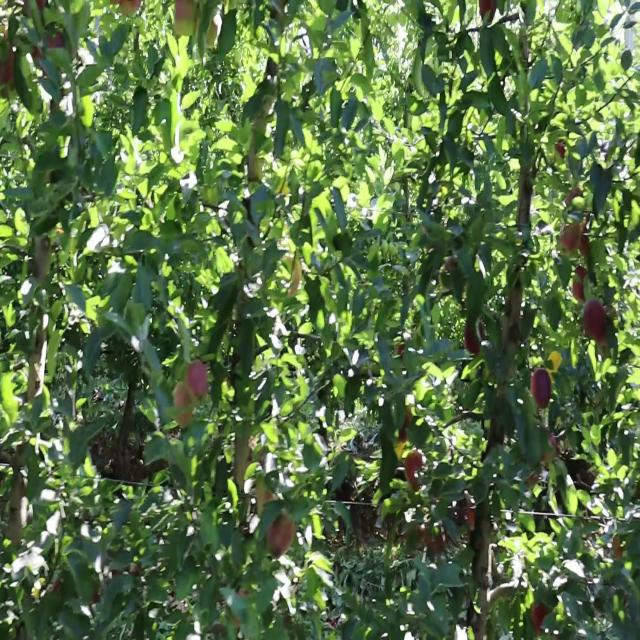apple: (267, 515, 296, 559), (582, 298, 608, 341), (172, 379, 194, 426), (186, 358, 208, 401), (404, 447, 426, 489), (254, 474, 275, 517), (173, 0, 196, 36), (531, 368, 551, 408), (464, 318, 486, 354), (560, 220, 581, 253), (206, 12, 222, 48), (572, 266, 588, 300)
